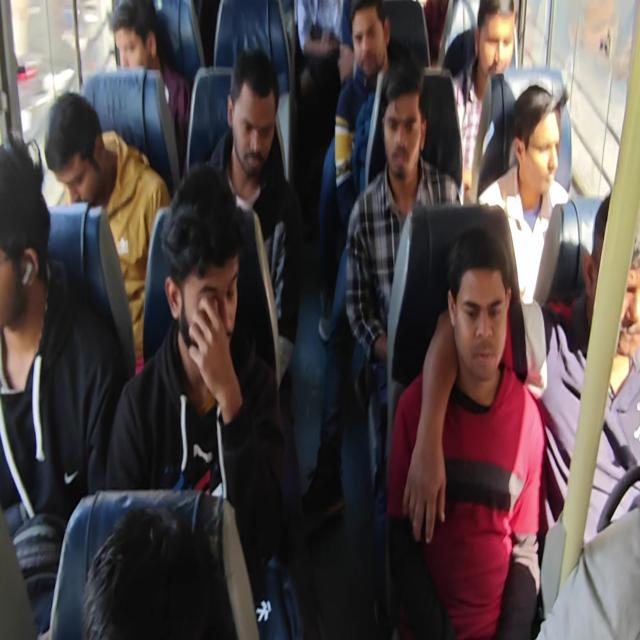person: (1, 0, 638, 638), (104, 164, 289, 634), (408, 194, 639, 557), (385, 226, 546, 638), (0, 135, 124, 637), (344, 56, 462, 504), (302, 0, 396, 522), (536, 193, 640, 549), (43, 90, 172, 374), (202, 48, 301, 392), (81, 506, 238, 638), (478, 83, 570, 307), (444, 0, 516, 204), (534, 503, 640, 639), (108, 0, 190, 172), (332, 0, 394, 225)
